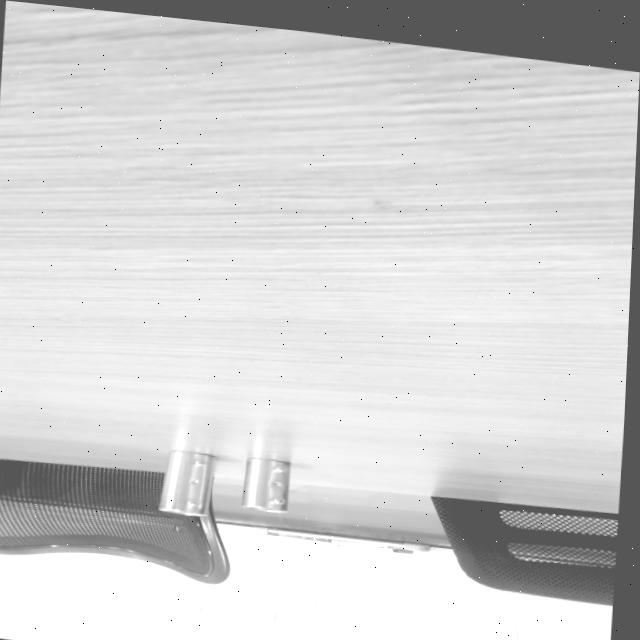Co_Lon: (159, 448, 216, 517)
Co_Nho: (240, 456, 293, 513)
